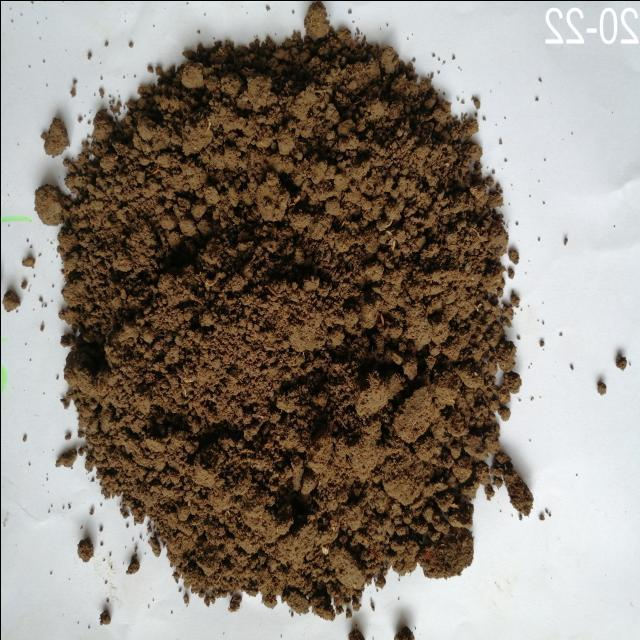soil: (132, 112, 430, 514)
